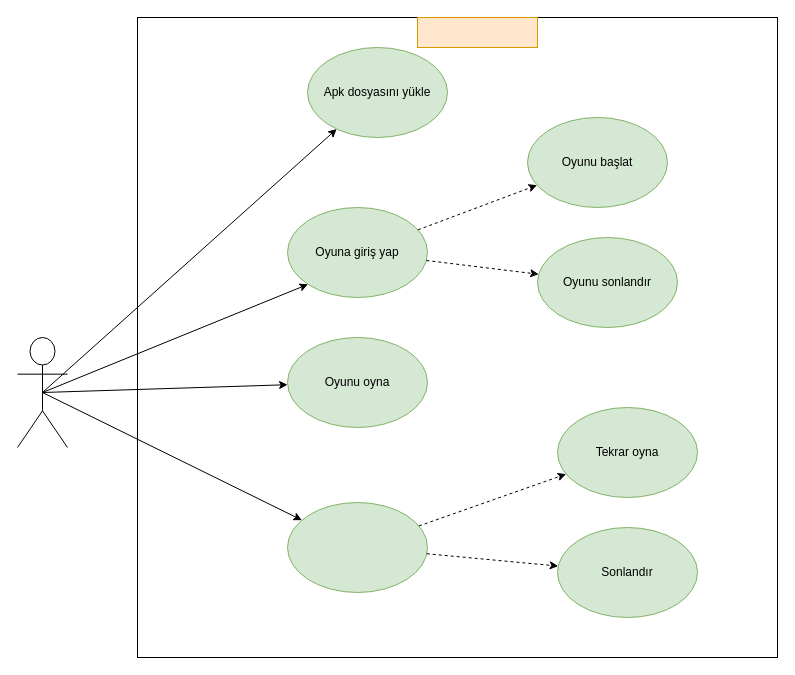
The diagram is 795 pixels wide and 675 high, and some of its shapes have lost their labels. The box of each missing label's shape, as (x1, y1, x2, y2) in pixels:
Actor: (16, 336, 68, 448)
Final: (286, 502, 428, 592)
YUVAMI BUL: (416, 16, 538, 48)
